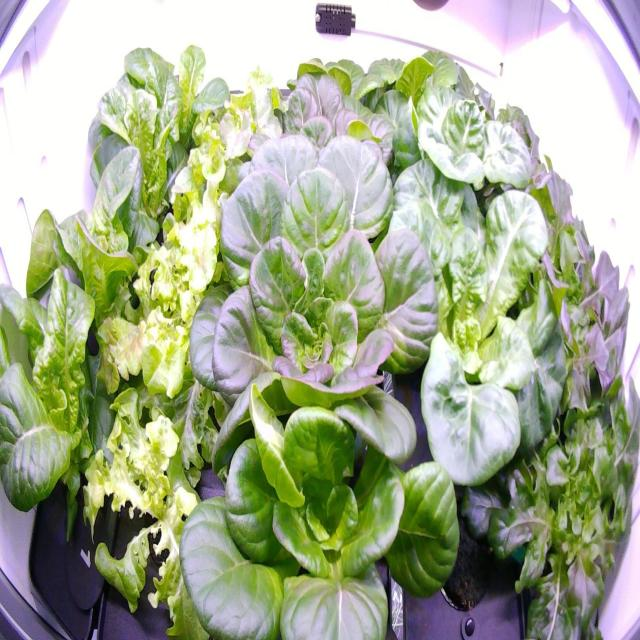Ready: (174, 121, 446, 497), (0, 250, 117, 522), (21, 146, 170, 338), (76, 61, 189, 249), (120, 36, 230, 170)
young: (162, 352, 466, 639), (374, 144, 592, 508), (385, 70, 553, 222), (239, 61, 400, 185), (378, 44, 498, 130), (276, 37, 400, 117)
